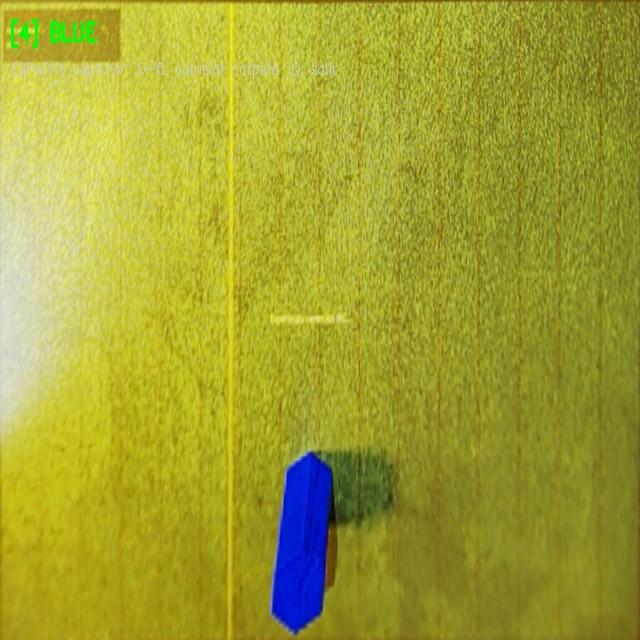blue: (271, 451, 333, 635)
